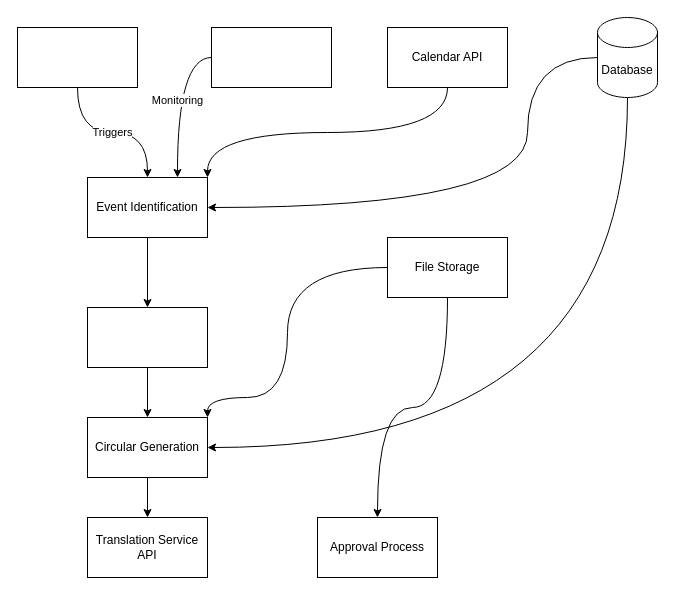
Image size: 675x595. Some labels were removed from this diagram. Each missing label, with the box of its shape:
LLM Service API: (86, 306, 208, 368)
n8n Workflow Engine: (16, 26, 138, 88)
Weather API: (210, 26, 332, 88)
